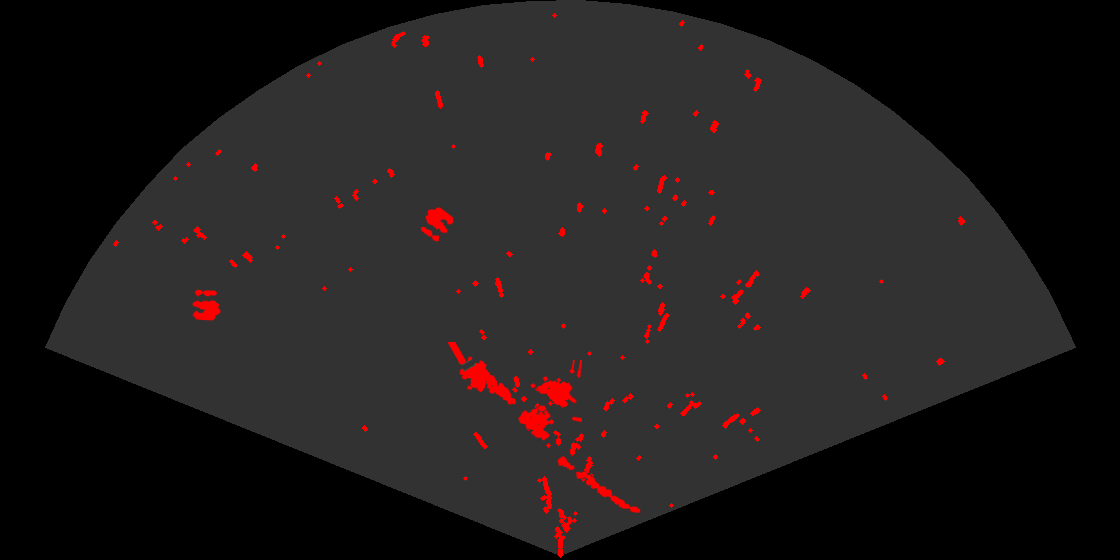ball: (419, 206, 455, 243), (191, 288, 222, 322)
cage: (517, 360, 582, 442)
chain: (556, 455, 642, 515)
frogman: (447, 342, 518, 406)
